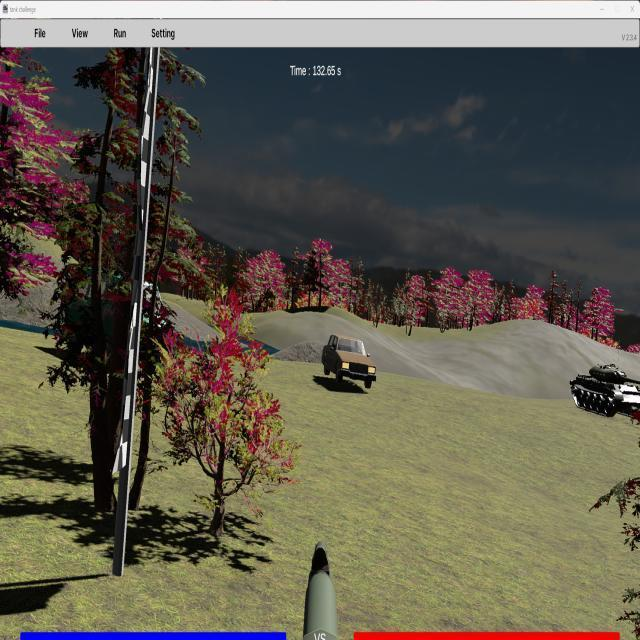Tank: (569, 362, 640, 420)
car: (321, 334, 377, 389)
